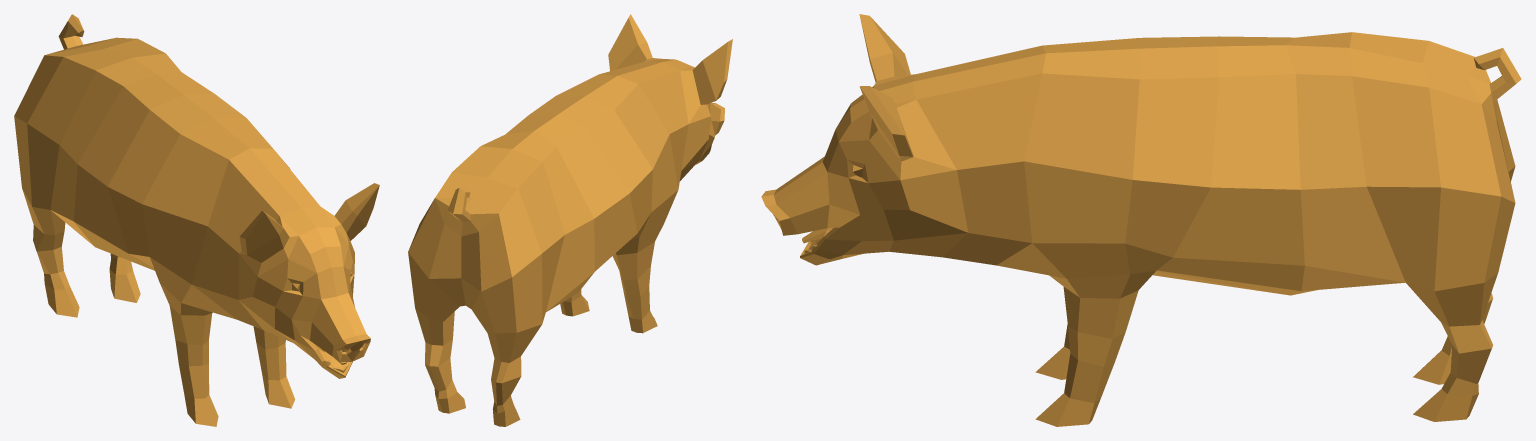
File: pig.fbx
3 views of the same model, side by side, from view 1: azimuth 30°, elevation 25°; view 2: azimuth 150°, elevation 25°; view 3: azimuth 270°, elevation 25° (orthographic). The views are drawn at different scales.
Parts seen in each view (by area): view 1: pig; view 2: pig; view 3: pig.
Part boxes in pixels (box(x1,y1,x2,y2)): pig: box(14, 14, 379, 426); pig: box(408, 14, 732, 426); pig: box(761, 14, 1521, 426).
Size of the model in its own units: 0.5366 by 0.8965 by 1.76.
